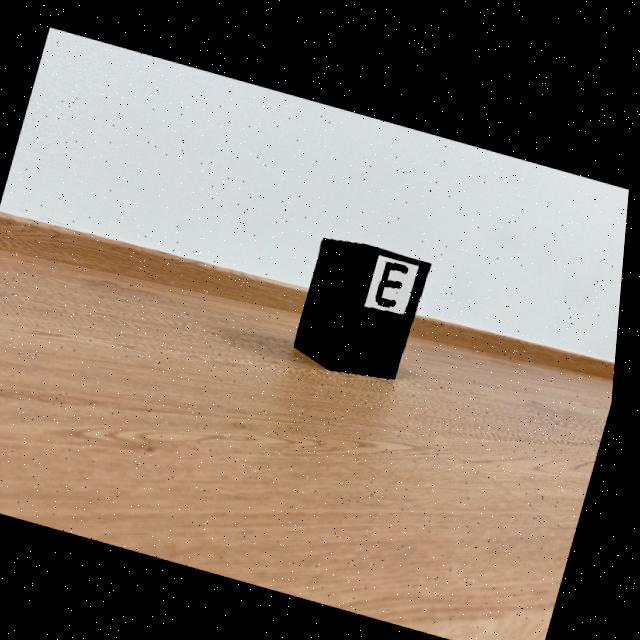E: (379, 255, 413, 301)
